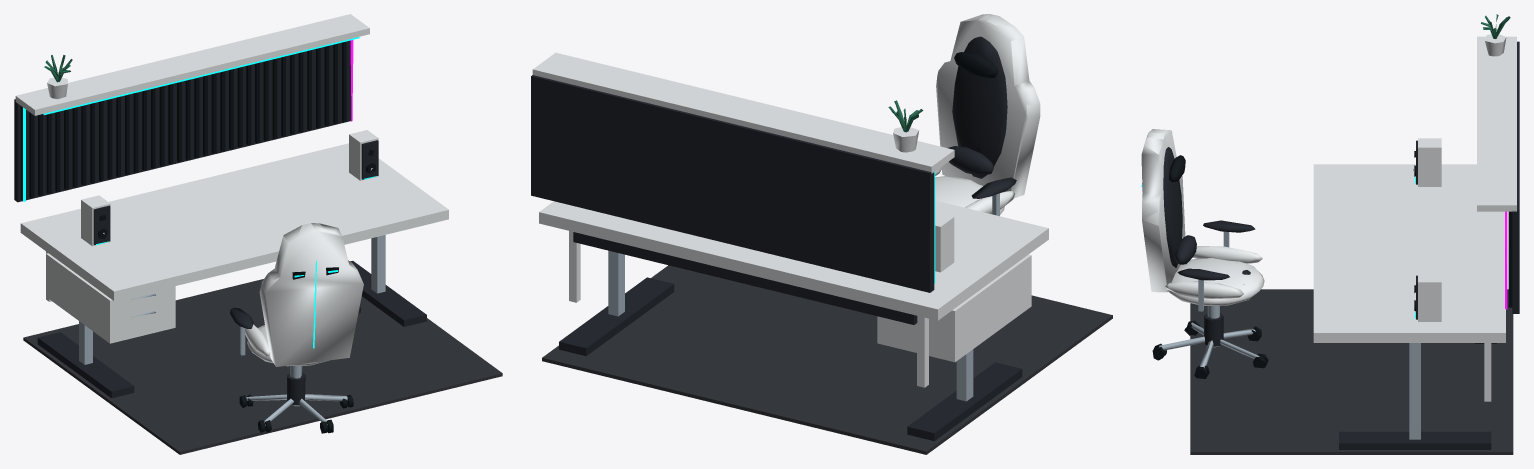
The model's file is furniture87-white.glb.
The picture shows the model from 3 angles, left to right: view 1: azimuth 30°, elevation 25°; view 2: azimuth 150°, elevation 25°; view 3: azimuth 270°, elevation 25°; orthographic projection. The views are drawn at different scales.
Visible parts, largest first — view 1: s83-surface-90847e2e-922b-4b5a-a0fe-fff6924f1ed7, s83-surface-d917ec18-a28d-44b5-84c7-04a947ea24c4; view 2: s83-surface-90847e2e-922b-4b5a-a0fe-fff6924f1ed7; view 3: s83-surface-90847e2e-922b-4b5a-a0fe-fff6924f1ed7.
Part boxes in pixels (x1=…): s83-surface-90847e2e-922b-4b5a-a0fe-fff6924f1ed7: x1=14, y1=14, x2=502, y2=454; s83-surface-d917ec18-a28d-44b5-84c7-04a947ea24c4: x1=23, y1=37, x2=376, y2=348; s83-surface-90847e2e-922b-4b5a-a0fe-fff6924f1ed7: x1=531, y1=14, x2=1112, y2=454; s83-surface-90847e2e-922b-4b5a-a0fe-fff6924f1ed7: x1=1141, y1=14, x2=1519, y2=454.
Bounding box in the file's own units: 2.2 × 1.76 × 2.08.
Materials: 3 (3 with a texture image).
